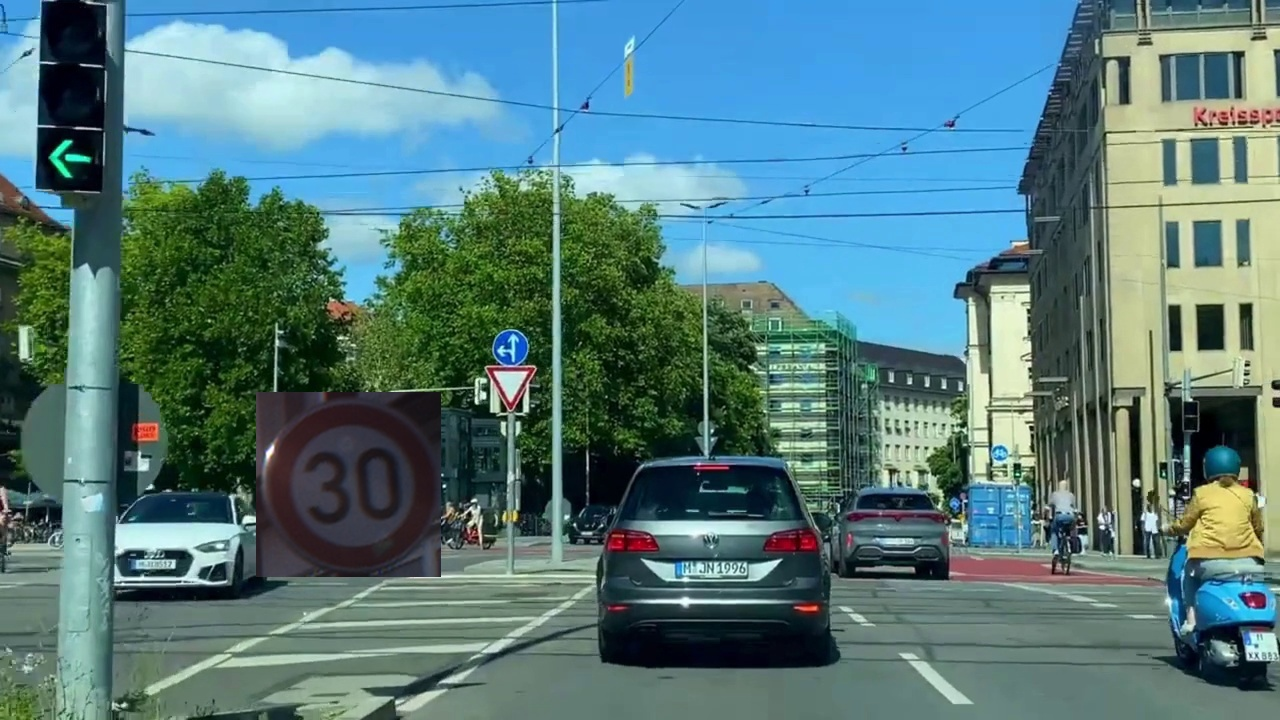Speed 30: (256, 392, 441, 577)
